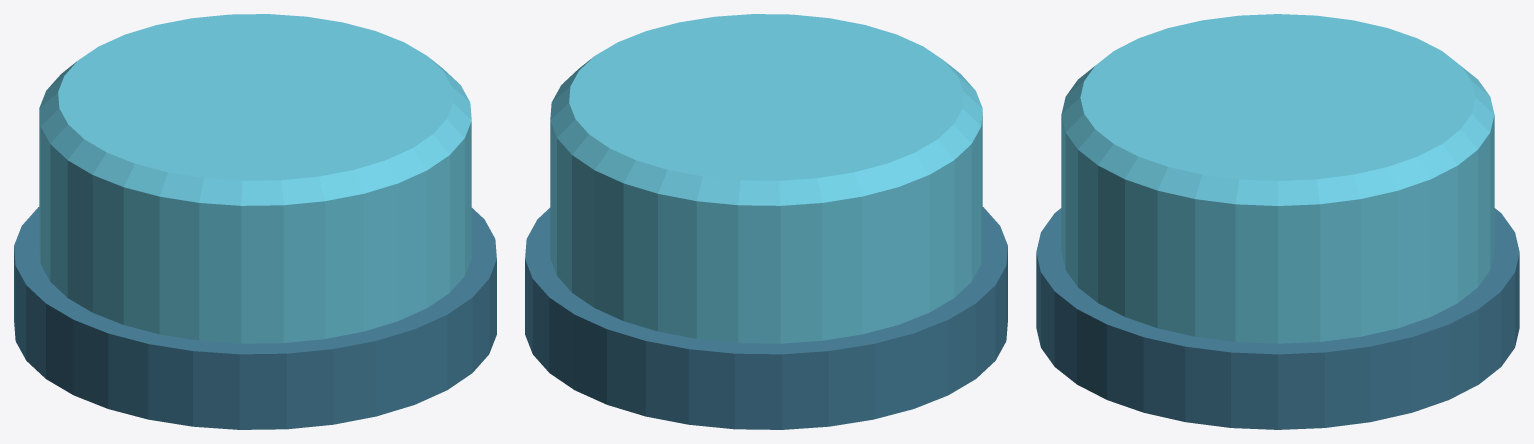
Rendered from Button.fbx.
3 renders of one model, left to right at view 1: azimuth 30°, elevation 25°; view 2: azimuth 150°, elevation 25°; view 3: azimuth 270°, elevation 25°, orthographic.
Visible parts, largest first — view 1: Button, Base; view 2: Button, Base; view 3: Button, Base.
Boxes of the visible parts, <box> form: Button: <box>39,14,471,343</box>; Base: <box>14,207,496,429</box>; Button: <box>550,14,982,343</box>; Base: <box>525,207,1007,429</box>; Button: <box>1061,14,1494,343</box>; Base: <box>1036,208,1519,429</box>.
Bounding box in the file's own units: 40 × 21.03 × 40.
